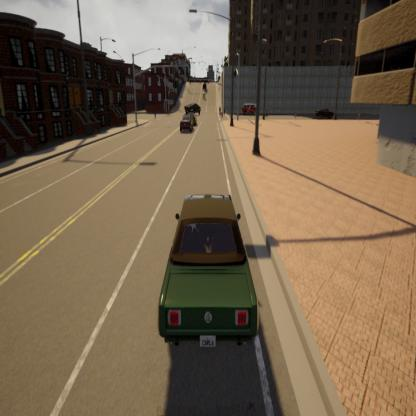Cars: (150, 173, 270, 355), (177, 110, 197, 136), (181, 102, 206, 122), (313, 103, 336, 124), (240, 96, 259, 117), (200, 78, 208, 92), (201, 90, 208, 104)
Pedestrian: (264, 101, 271, 121), (216, 102, 223, 119), (294, 106, 298, 125), (218, 78, 221, 93)
